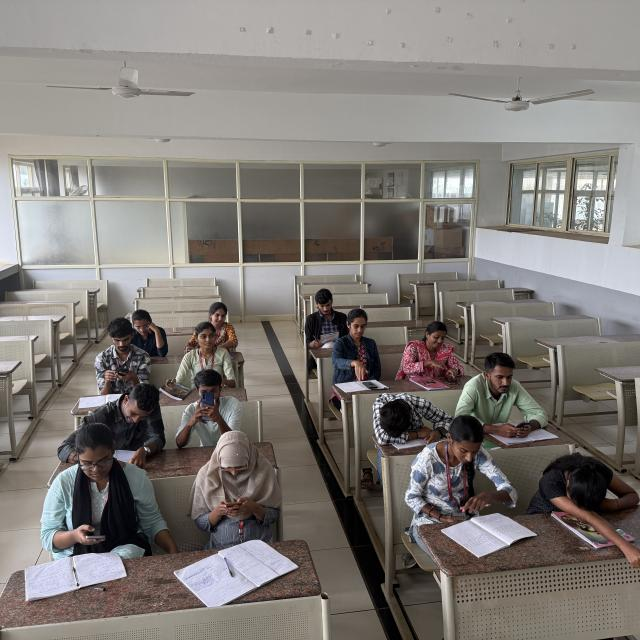Sleeping: (534, 454, 640, 525), (369, 390, 450, 444)
Using Phone: (48, 423, 163, 553), (189, 428, 287, 538), (459, 345, 549, 434), (171, 367, 244, 440), (89, 320, 150, 393)
Writing: (302, 290, 347, 351)
